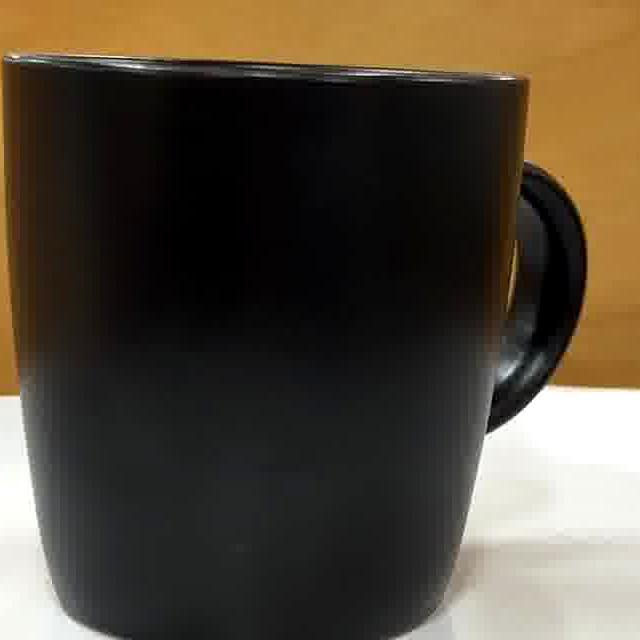cup: (11, 63, 587, 640)
